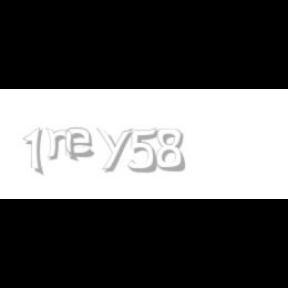1: (22, 128, 44, 176)
5: (128, 128, 158, 174)
8: (156, 128, 186, 172)
e: (66, 128, 98, 158)
n: (45, 128, 79, 162)
y: (96, 128, 136, 172)
